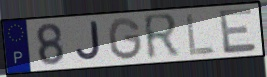8: (34, 22, 66, 68)
E: (217, 6, 259, 56)
G: (106, 16, 144, 62)
J: (74, 20, 103, 63)
L: (184, 12, 217, 58)
R: (141, 11, 182, 62)
